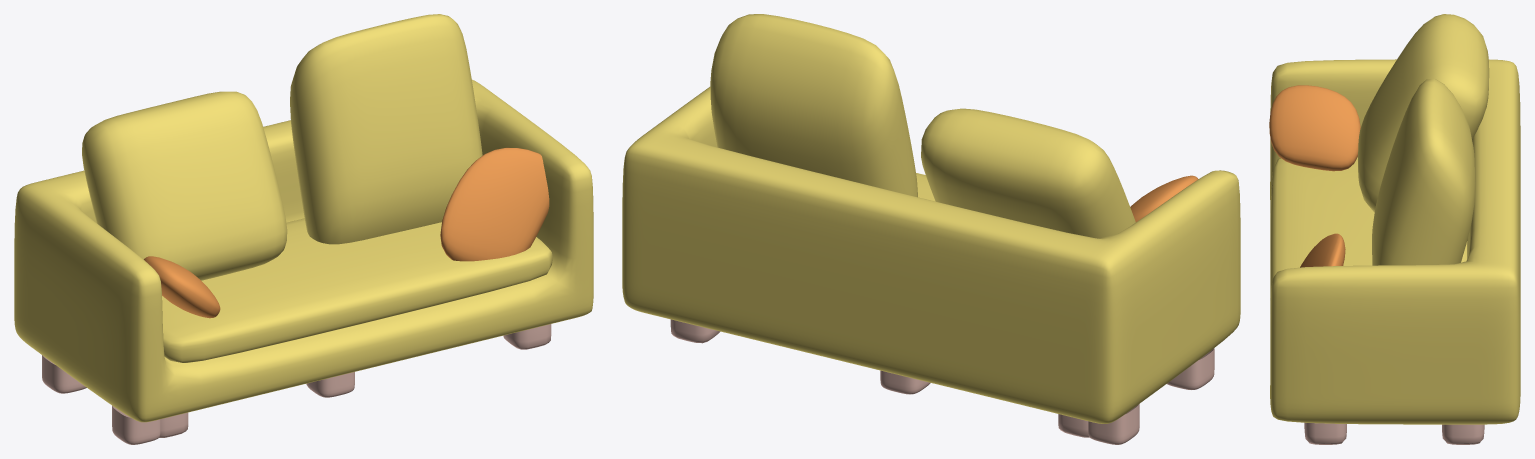
The model's file is sofa.fbx.
3 renders of one model, left to right at view 1: azimuth 30°, elevation 25°; view 2: azimuth 150°, elevation 25°; view 3: azimuth 270°, elevation 25°, orthographic. The views are drawn at different scales.
Visible parts, largest first — view 1: couch, cushion.001, cushion.002, pillow.001, couch.legs.001, pillow, couch.legs; view 2: couch, cushion.001, cushion.002, couch.legs.001, couch.legs, pillow; view 3: couch, cushion.001, cushion.002, pillow, couch.legs, pillow.001.
Boxes of the visible parts, x1,y1,x2,y2 form: couch: (14, 79, 593, 422); cushion.001: (290, 14, 482, 244); cushion.002: (82, 91, 287, 280); pillow.001: (440, 147, 549, 261); couch.legs.001: (42, 355, 354, 444); pillow: (144, 256, 220, 318); couch.legs: (159, 324, 551, 437); couch: (622, 86, 1240, 423); cushion.001: (710, 14, 917, 197); cushion.002: (921, 108, 1135, 238); couch.legs.001: (880, 348, 1214, 444); couch.legs: (670, 319, 1089, 437); pillow: (1130, 175, 1198, 221); couch: (1270, 59, 1520, 424); cushion.001: (1372, 79, 1475, 265); cushion.002: (1358, 14, 1489, 211); pillow: (1269, 85, 1360, 171); couch.legs: (1304, 422, 1484, 444); pillow.001: (1300, 233, 1345, 267).
Size of the model in its own units: 1.9 by 1.16 by 0.9021.
